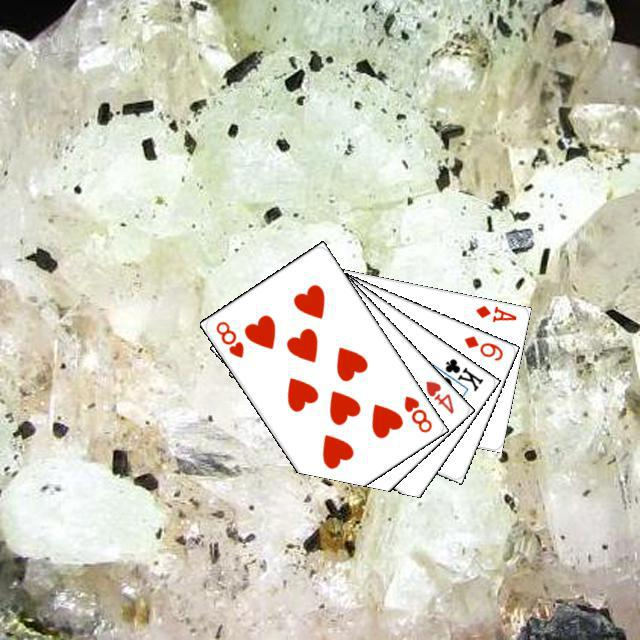4h: (421, 376, 456, 416)
6d: (459, 331, 505, 363)
8h: (211, 316, 246, 360), (399, 391, 434, 434)
Ad: (471, 300, 519, 324)
Kc: (431, 353, 485, 393)
